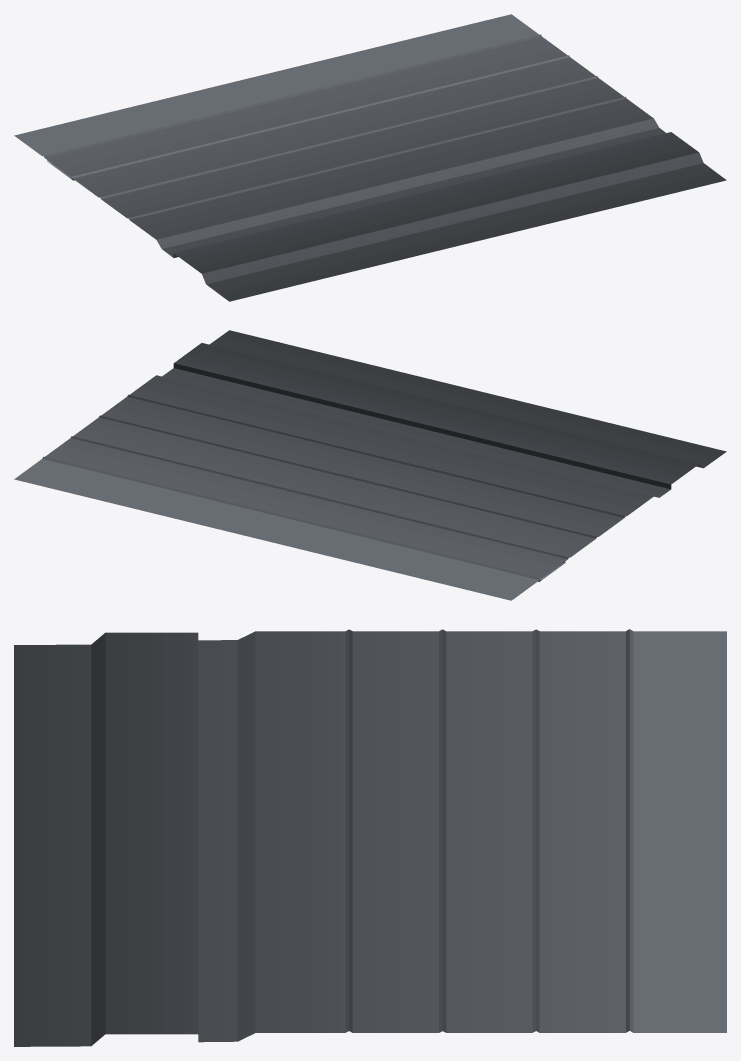
The model's file is Mid Wall 01.FBX.
3 renders of one model, top to bottom at view 1: azimuth 30°, elevation 25°; view 2: azimuth 150°, elevation 25°; view 3: azimuth 270°, elevation 25°, orthographic. The views are drawn at different scales.
Parts seen in each view (by area): view 1: Mid Wall 01; view 2: Mid Wall 01; view 3: Mid Wall 01.
Boxes of the visible parts, x1=… form: Mid Wall 01: x1=14, y1=14, x2=726, y2=301; Mid Wall 01: x1=14, y1=330, x2=726, y2=600; Mid Wall 01: x1=14, y1=629, x2=726, y2=1046.
Bounding box in the file's own units: 400 × 7.49 × 300.
